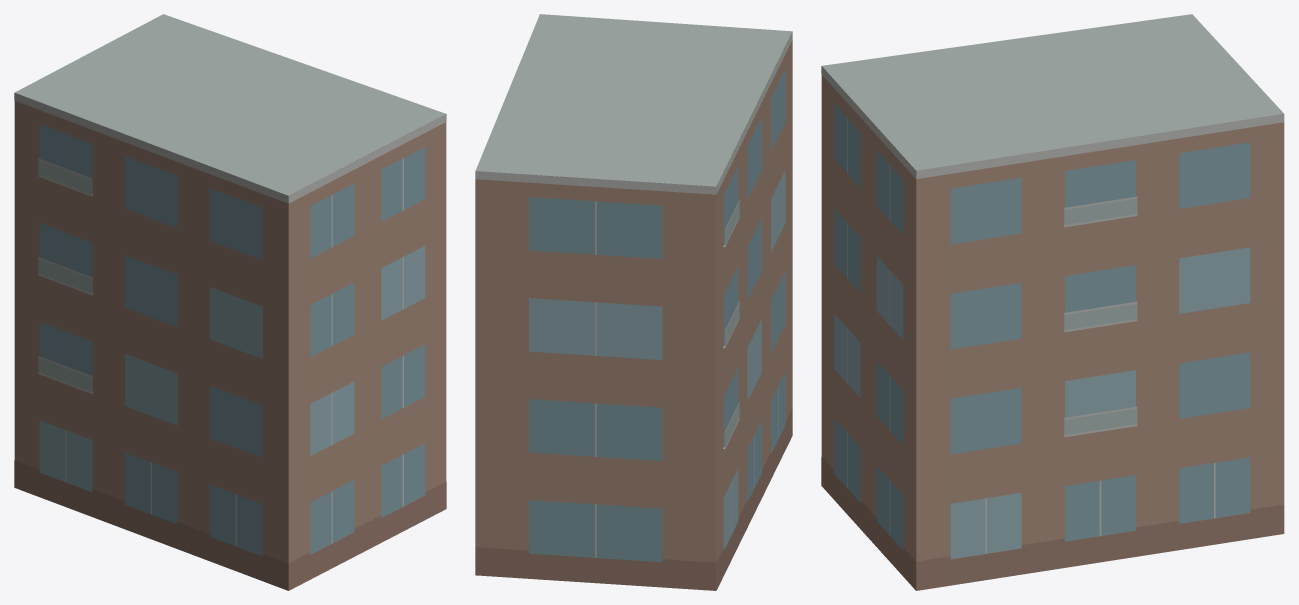
The model's file is survey-upis-32864514.glb.
3 views of the same model, side by side, from view 1: azimuth 30°, elevation 25°; view 2: azimuth 150°, elevation 25°; view 3: azimuth 270°, elevation 25° (orthographic). The views are drawn at different scales.
Visible parts, largest first — view 1: survey-upis-32864514.tmp; view 2: survey-upis-32864514.tmp; view 3: survey-upis-32864514.tmp.
Boxes of the visible parts, bbox=[...] form: survey-upis-32864514.tmp: bbox=[14, 14, 446, 590]; survey-upis-32864514.tmp: bbox=[475, 14, 792, 590]; survey-upis-32864514.tmp: bbox=[821, 14, 1284, 590].
Size of the model in its own units: 9.78 by 12.2 by 12.19.
